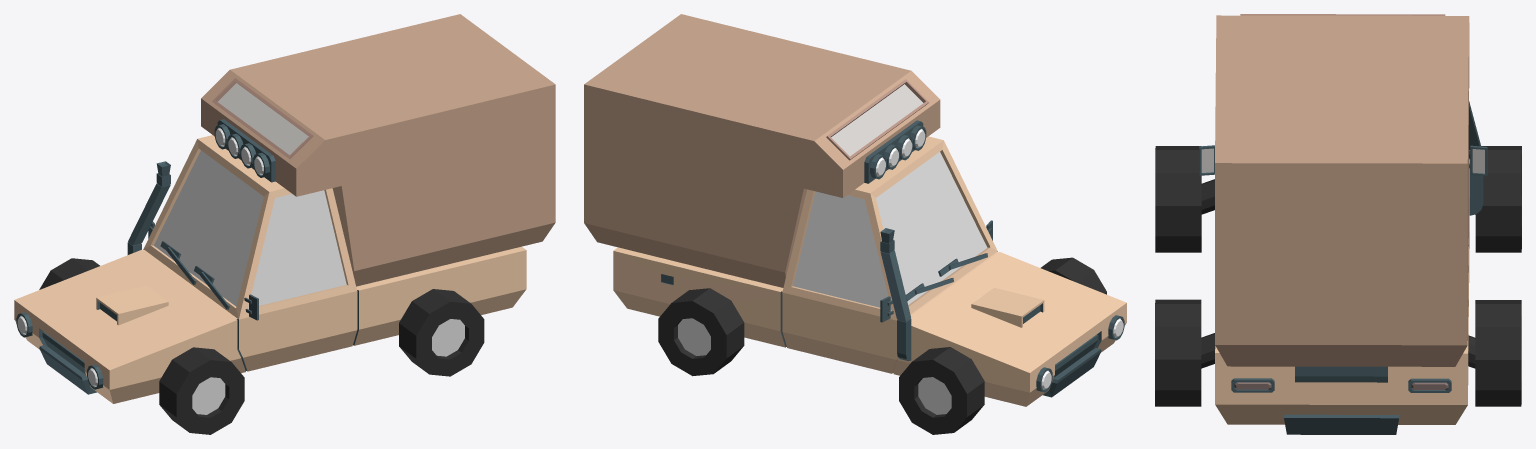
File: Car.fbx
3 views of the same model, side by side, from view 1: azimuth 30°, elevation 25°; view 2: azimuth 150°, elevation 25°; view 3: azimuth 270°, elevation 25° (orthographic). The views are drawn at different scales.
Parts seen in each view (by area): view 1: Car; view 2: Car; view 3: Car.
Boxes of the visible parts, x1,y1,x2,y2 form: Car: [14, 14, 555, 434]; Car: [584, 14, 1126, 434]; Car: [1155, 14, 1521, 434].
Size of the model in its own units: 4110 by 2128 by 2200.
